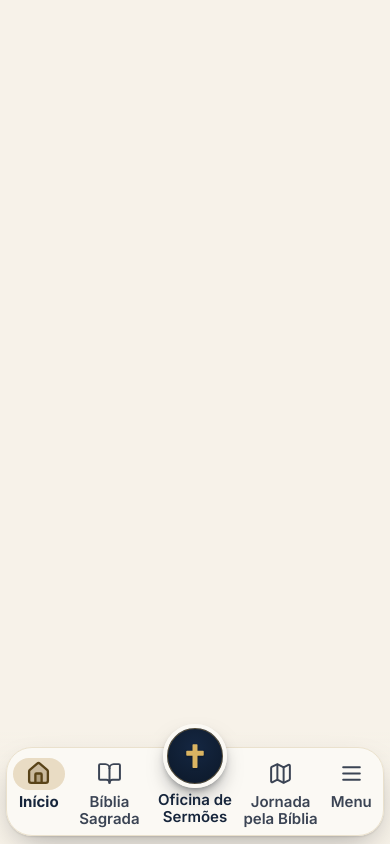
Test: Menu do celular em cartõezinhos › tem os ajustes compactos no fim: bandeiras, tamanho do texto, aparência e instalar
Click the button "Menu": point(351, 791) [322, 754, 381, 829]
(page scrolled)
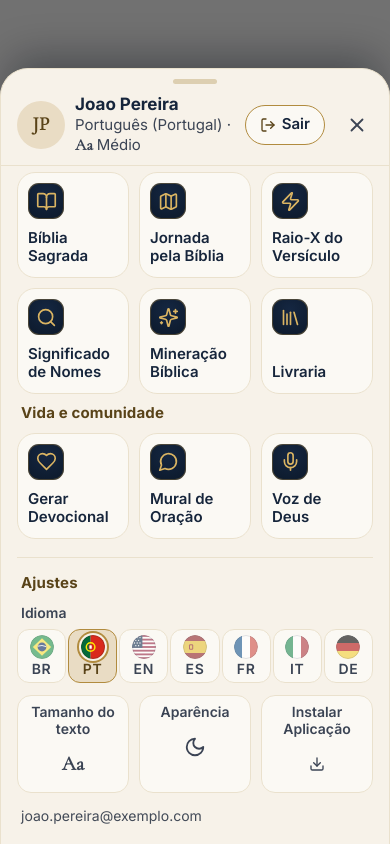
expect the button with aria-label "Tamanho do texto" is shown: met, box [51, 741, 95, 785]
expect the button named "Modo Escuro" is shown: met, box [173, 724, 217, 768]
expect the button named "Instalar" is shown: met, box [295, 741, 339, 785]
